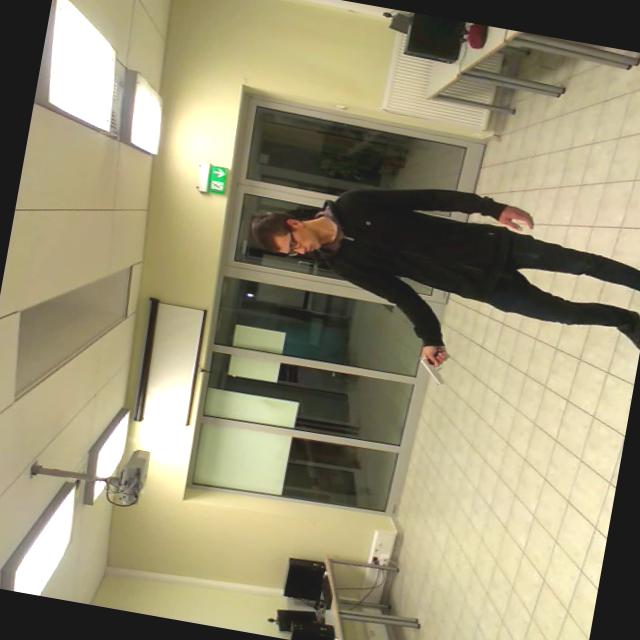handgun: (404, 336, 458, 386)
